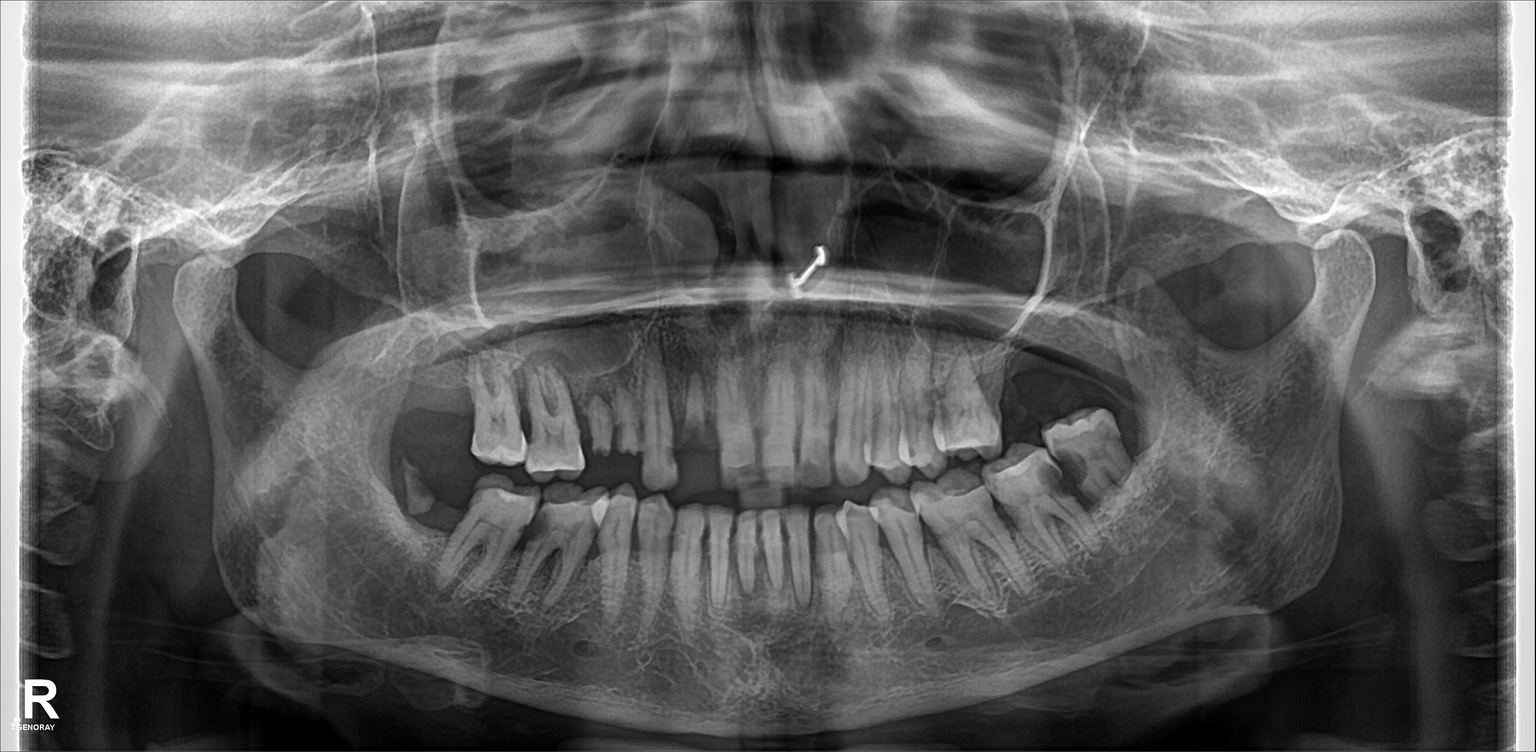Dental Caries: (1032, 450, 1095, 492), (516, 503, 550, 553)
Missing Tooth: (997, 329, 1050, 441), (408, 361, 469, 444), (1065, 307, 1110, 408), (434, 462, 468, 548)
Retained Root: (672, 365, 715, 471), (391, 456, 437, 526), (579, 389, 612, 466), (613, 374, 641, 454)
